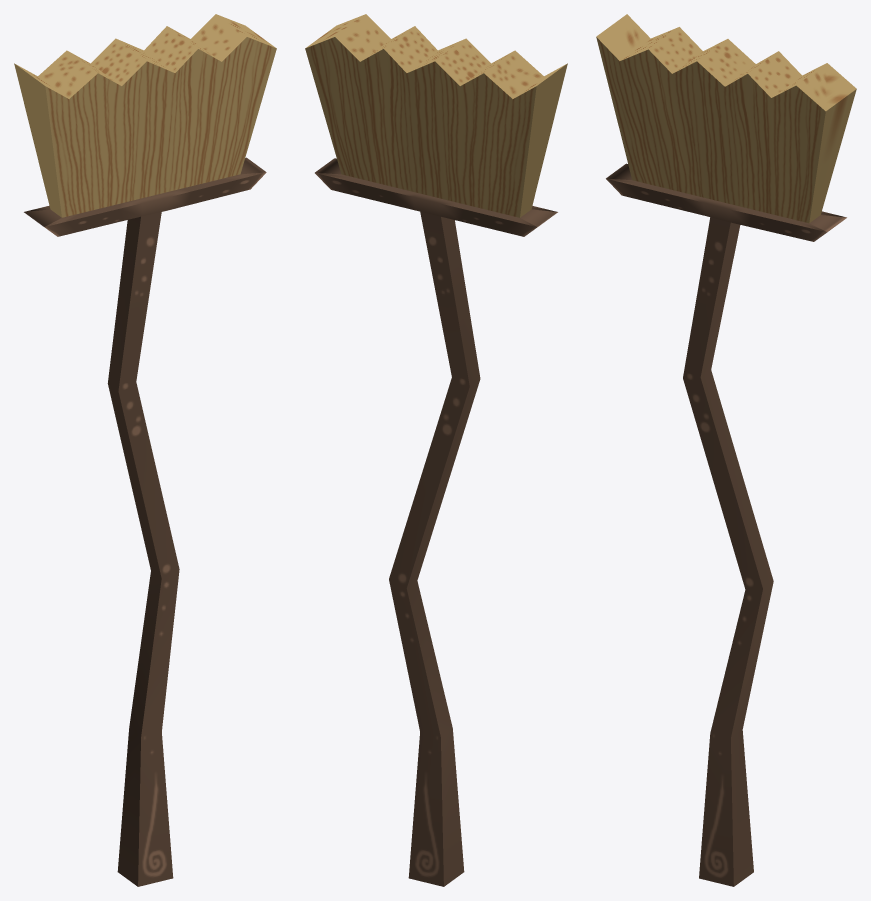
File: broom.fbx
The picture shows the model from 3 angles, left to right: view 1: azimuth 30°, elevation 25°; view 2: azimuth 150°, elevation 25°; view 3: azimuth 330°, elevation 25°; orthographic projection.
Visible parts, largest first — view 1: pCube1; view 2: pCube1; view 3: pCube1.
Boxes of the visible parts, x1=… form: pCube1: x1=14, y1=14, x2=276, y2=886; pCube1: x1=305, y1=14, x2=567, y2=886; pCube1: x1=596, y1=14, x2=856, y2=886.
Size of the model in its own units: 0.5836 by 2 by 0.1364.
Materials: 1 (1 with a texture image).
